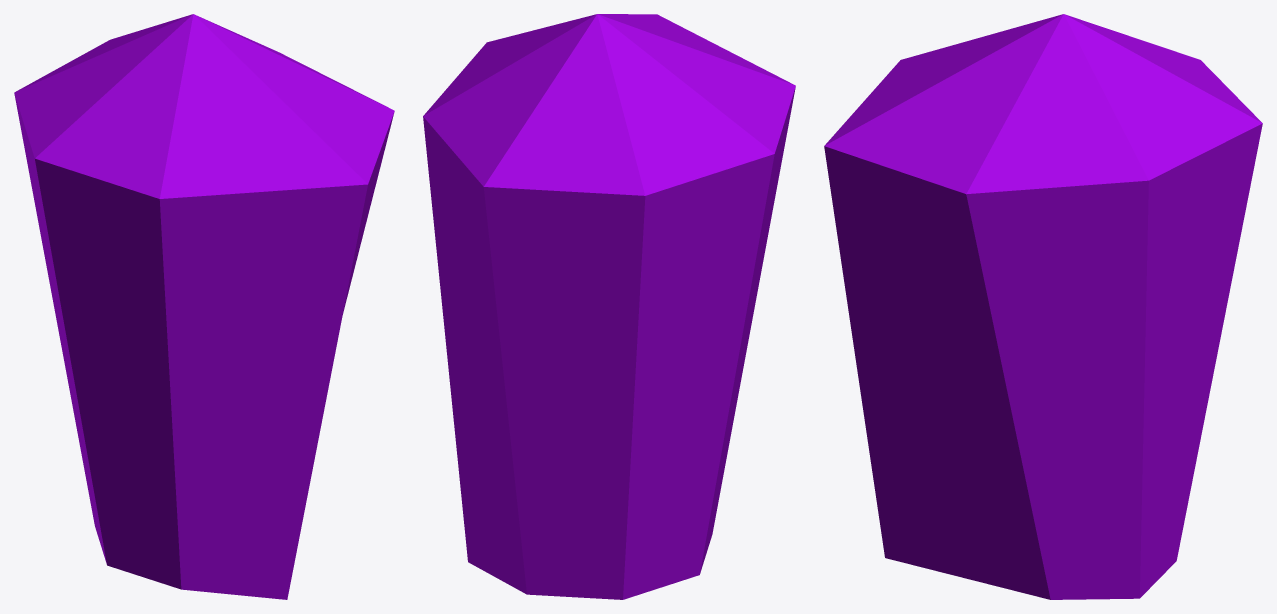
File: Cristal T.fbx
The picture shows the model from 3 angles, left to right: view 1: azimuth 30°, elevation 25°; view 2: azimuth 150°, elevation 25°; view 3: azimuth 270°, elevation 25°; orthographic projection. The views are drawn at different scales.
Visible parts, largest first — view 1: Cylinder.005; view 2: Cylinder.005; view 3: Cylinder.005.
Part boxes in pixels (x1,y1,x2,y2): Cylinder.005: (14,14,394,599); Cylinder.005: (423,14,795,599); Cylinder.005: (824,14,1262,599).
Bounding box in the file's own units: 30.59 × 48.02 × 35.33.
